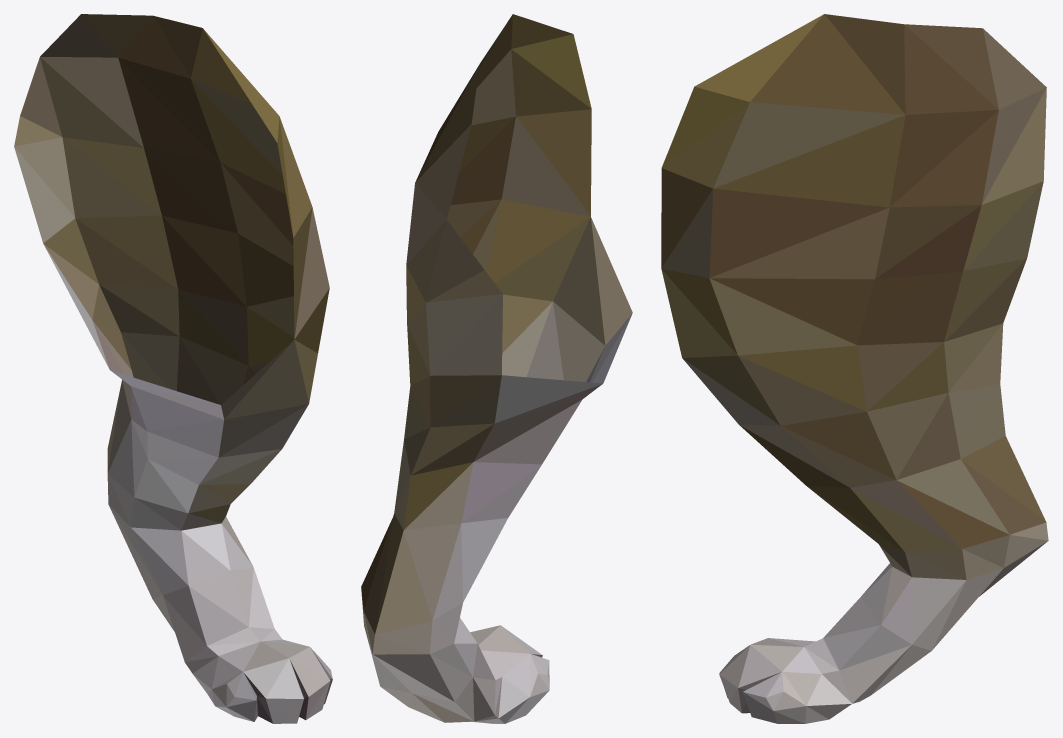
File: PataTrasDer.obj
3 renders of one model, left to right at view 1: azimuth 30°, elevation 25°; view 2: azimuth 150°, elevation 25°; view 3: azimuth 270°, elevation 25°, orthographic. The views are drawn at different scales.
Visible parts, largest first — view 1: PataTrasDer1:cat_01_color05 group4; view 2: PataTrasDer1:cat_01_color05 group4; view 3: PataTrasDer1:cat_01_color05 group4.
Boxes of the visible parts, x1,y1,x2,y2 form: PataTrasDer1:cat_01_color05 group4: [14, 14, 332, 723]; PataTrasDer1:cat_01_color05 group4: [361, 14, 632, 723]; PataTrasDer1:cat_01_color05 group4: [661, 14, 1048, 723].
Size of the model in its own units: 0.186 by 0.6276 by 0.3306.
Materials: 1 (1 with a texture image).
